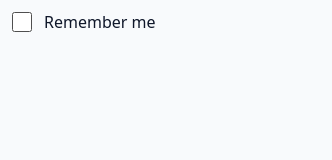
Test case: fields › Checkbox toggles from its label
The width and height of the screenshot is (332, 160).
Click the text "Remember me": [100, 22] box [44,9,156,35]
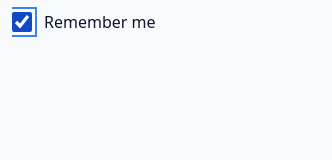
Result: the checkbox labelled "Remember me" is checked at [12,12,32,32]
